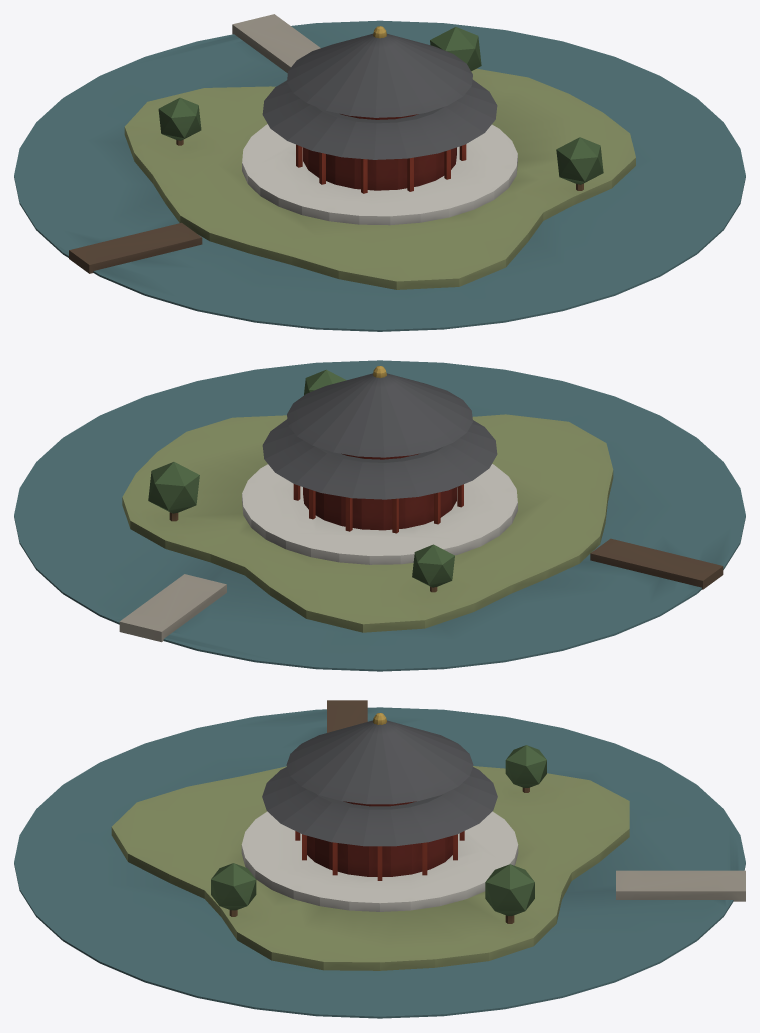
File: tuancheng-yuan.glb
3 renders of one model, top to bottom at view 1: azimuth 30°, elevation 25°; view 2: azimuth 150°, elevation 25°; view 3: azimuth 270°, elevation 25°, orthographic.
Parts seen in each view (by area): view 1: p0_islet, p2_trees, p1_hall; view 2: p0_islet, p2_trees, p1_hall; view 3: p0_islet, p2_trees, p1_hall.
Boxes of the visible parts, left/top/right/bottom form: p0_islet: left=14, top=20, right=745, bottom=331; p2_trees: left=158, top=26, right=603, bottom=190; p1_hall: left=69, top=14, right=466, bottom=273; p0_islet: left=14, top=360, right=745, bottom=671; p2_trees: left=148, top=366, right=497, bottom=592; p1_hall: left=119, top=484, right=723, bottom=642; p0_islet: left=14, top=707, right=745, bottom=1018; p2_trees: left=211, top=713, right=546, bottom=923; p1_hall: left=295, top=700, right=745, bottom=901.
Bounding box in the file's own units: 90 × 20.46 × 90.
